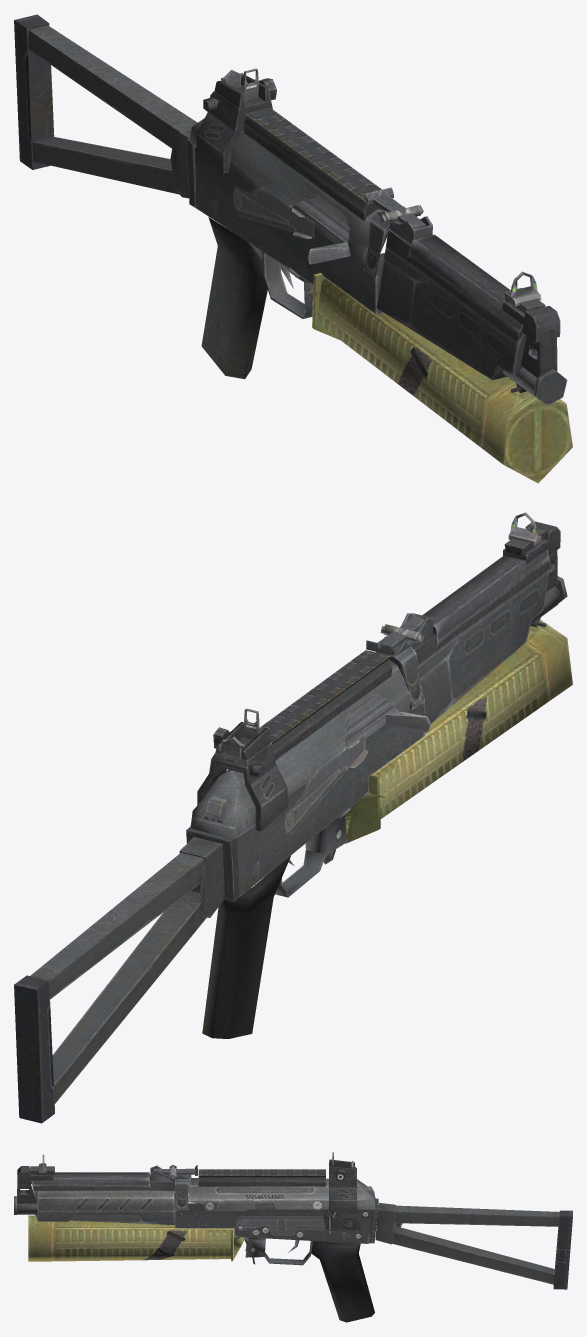
File: SMG_cfq_qs_01_lod1_Body_LOD_(000632).glb
The picture shows the model from 3 angles, top to bottom: view 1: azimuth 30°, elevation 25°; view 2: azimuth 150°, elevation 25°; view 3: azimuth 270°, elevation 25°; orthographic projection. The views are drawn at different scales.
Visible parts, largest first — view 1: cfq_qs_01_lod1; view 2: cfq_qs_01_lod1; view 3: cfq_qs_01_lod1.
Boxes of the visible parts, x1,y1,x2,y2 form: cfq_qs_01_lod1: (14,14,572,483); cfq_qs_01_lod1: (14,512,572,1123); cfq_qs_01_lod1: (14,1152,572,1322).
Bounding box in the file's own units: 0.1132 × 0.3356 × 1.02.
Materials: 1 (1 with a texture image).
